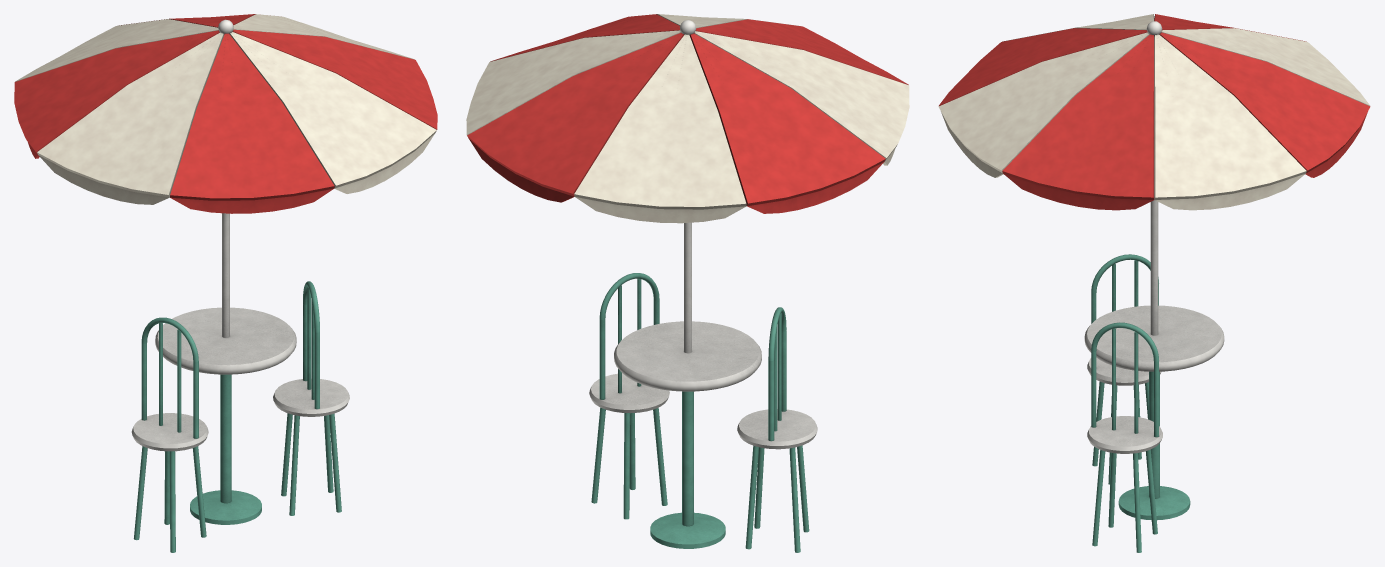
Rendered from CafeSet.fbx.
The picture shows the model from 3 angles, left to right: view 1: azimuth 30°, elevation 25°; view 2: azimuth 150°, elevation 25°; view 3: azimuth 270°, elevation 25°; orthographic projection. The views are drawn at different scales.
Visible parts, largest first — view 1: CafeSet; view 2: CafeSet; view 3: CafeSet.
Boxes of the visible parts, x1=… form: CafeSet: x1=14, y1=14, x2=437, y2=552; CafeSet: x1=466, y1=14, x2=909, y2=552; CafeSet: x1=938, y1=14, x2=1370, y2=552.
Bounding box in the file's own units: 5.44 × 6.72 × 5.44.
Materials: 1 (1 with a texture image).
